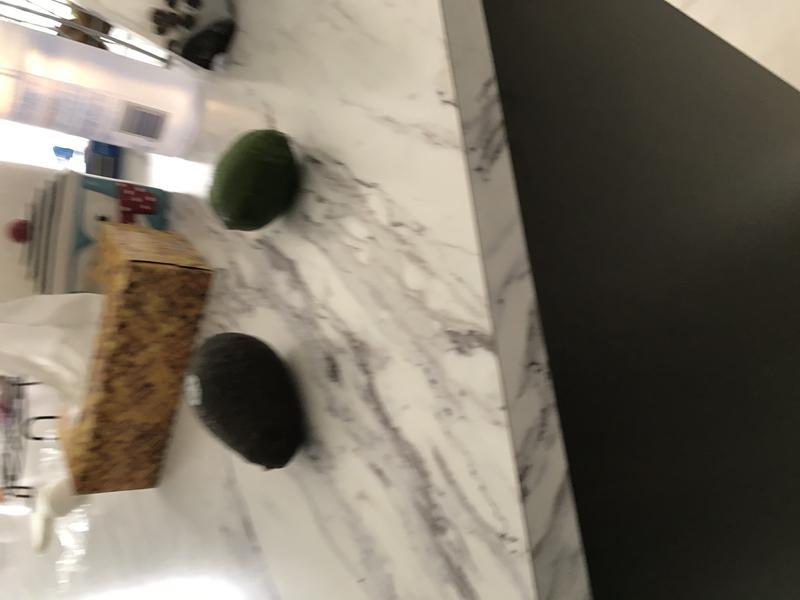avacado: (180, 325, 312, 488)
lime: (198, 118, 309, 244)
